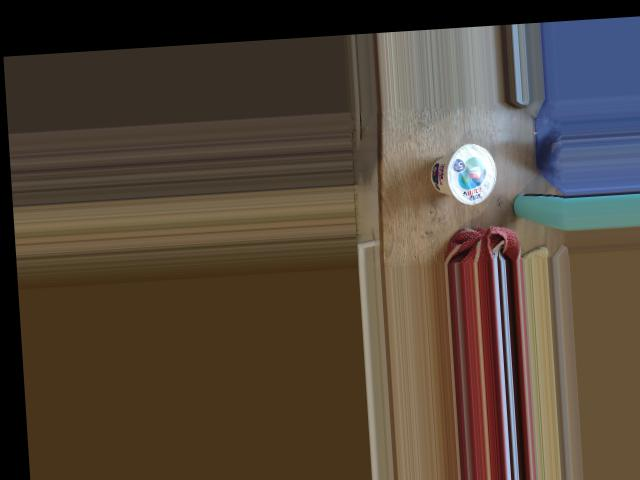cotage: (426, 145, 501, 203)
